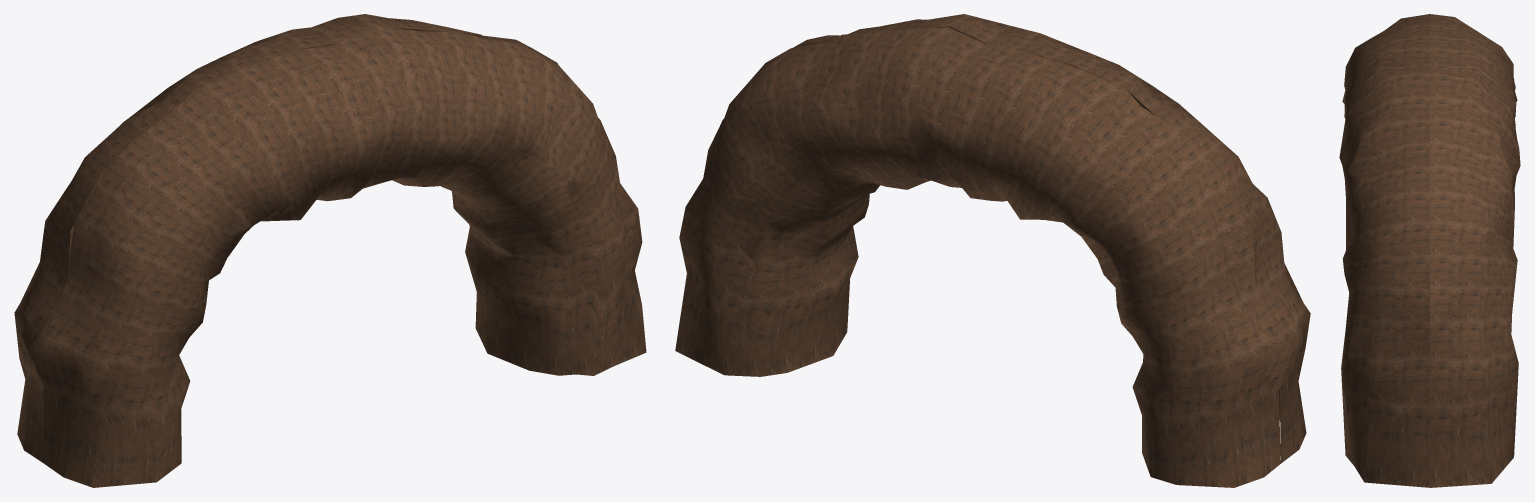
File: ArchCore_LOD2.fbx
The picture shows the model from 3 angles, left to right: view 1: azimuth 30°, elevation 25°; view 2: azimuth 150°, elevation 25°; view 3: azimuth 270°, elevation 25°; orthographic projection. The views are drawn at different scales.
Parts seen in each view (by area): view 1: ArchCore.002; view 2: ArchCore.002; view 3: ArchCore.002.
Part boxes in pixels (x1=…): ArchCore.002: x1=14, y1=14, x2=646, y2=487; ArchCore.002: x1=675, y1=14, x2=1310, y2=487; ArchCore.002: x1=1339, y1=14, x2=1520, y2=487.
Size of the model in its own units: 78.44 by 23.82 by 45.11.
